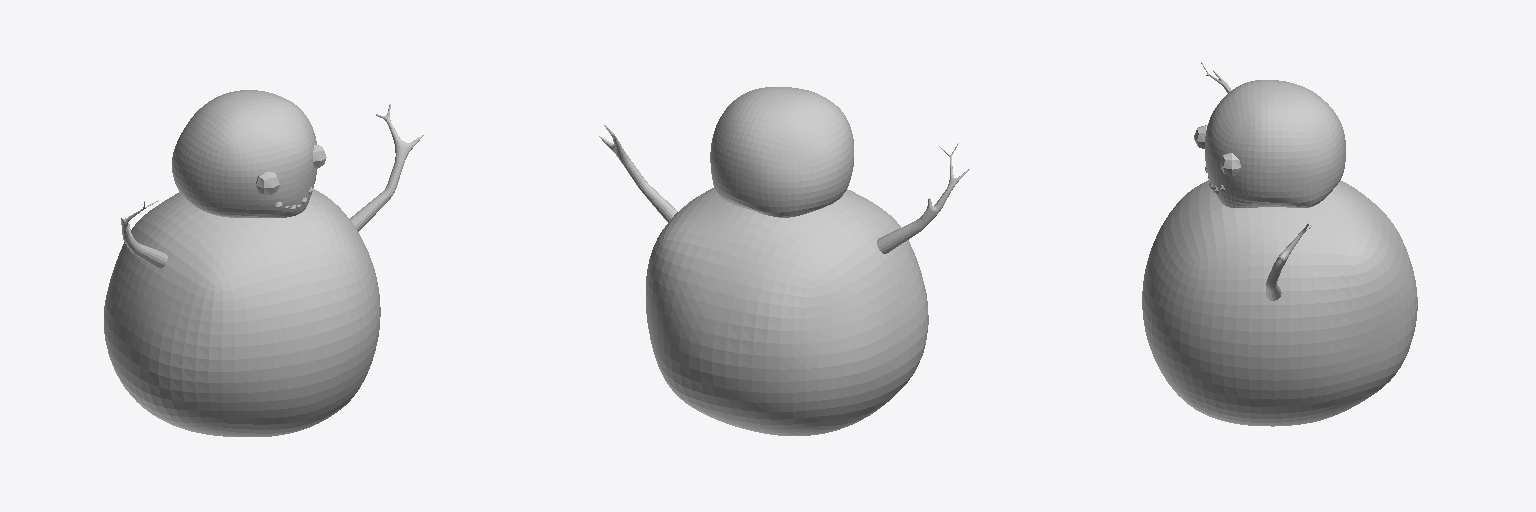
The model's file is BlockSnowmanModel.obj.
3 views of the same model, side by side, from view 1: azimuth 30°, elevation 25°; view 2: azimuth 150°, elevation 25°; view 3: azimuth 270°, elevation 25° (orthographic).
Visible parts, largest first — view 1: Cube.001_Cube.002, Cube.002_Cube.003, Plane.001_Plane.004, Plane.002_Plane.005; view 2: Cube.001_Cube.002, Cube.002_Cube.003, Plane.002_Plane.005, Plane.001_Plane.004; view 3: Cube.001_Cube.002, Cube.002_Cube.003, Plane.001_Plane.004.
Boxes of the visible parts, box(x1,y1,x2,y2) form: Cube.001_Cube.002: box(104, 189, 380, 436); Cube.002_Cube.003: box(172, 90, 317, 217); Plane.001_Plane.004: box(350, 104, 423, 231); Plane.002_Plane.005: box(121, 200, 167, 268); Cube.001_Cube.002: box(646, 188, 928, 435); Cube.002_Cube.003: box(710, 87, 853, 217); Plane.002_Plane.005: box(877, 143, 969, 253); Plane.001_Plane.004: box(599, 125, 677, 221); Cube.001_Cube.002: box(1142, 180, 1417, 426); Cube.002_Cube.003: box(1205, 80, 1345, 207); Plane.001_Plane.004: box(1266, 223, 1311, 300).
Size of the model in its own units: 5.43 by 4.97 by 3.85.